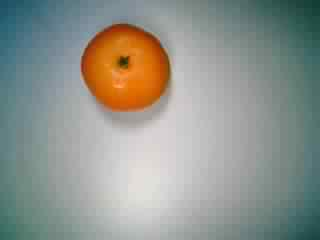orange: (76, 18, 175, 117)
